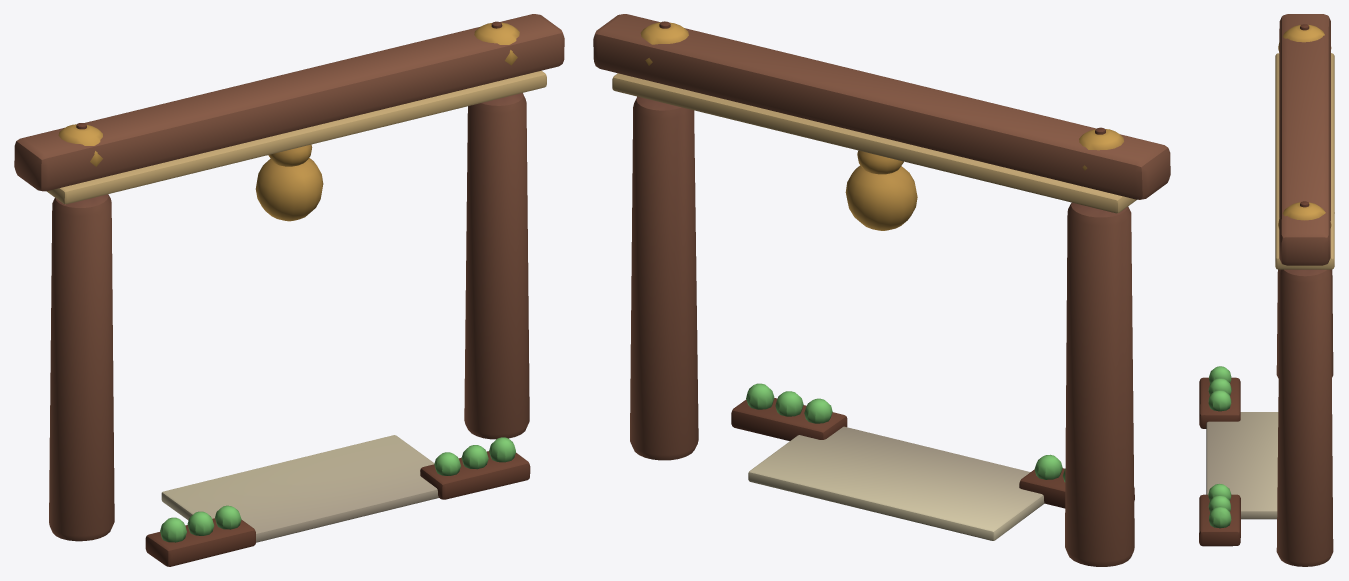
3 views of the same model, side by side, from view 1: azimuth 30°, elevation 25°; view 2: azimuth 150°, elevation 25°; view 3: azimuth 270°, elevation 25° (orthographic). The views are drawn at different scales.
Parts seen in each view (by area): view 1: gate_98f858ba; view 2: gate_98f858ba; view 3: gate_98f858ba.
Boxes of the visible parts, x1,y1,x2,y2 form: gate_98f858ba: (14,14,564,566); gate_98f858ba: (593,14,1170,566); gate_98f858ba: (1199,14,1334,566).
Size of the model in its own units: 5.39 by 3.98 by 1.38.
